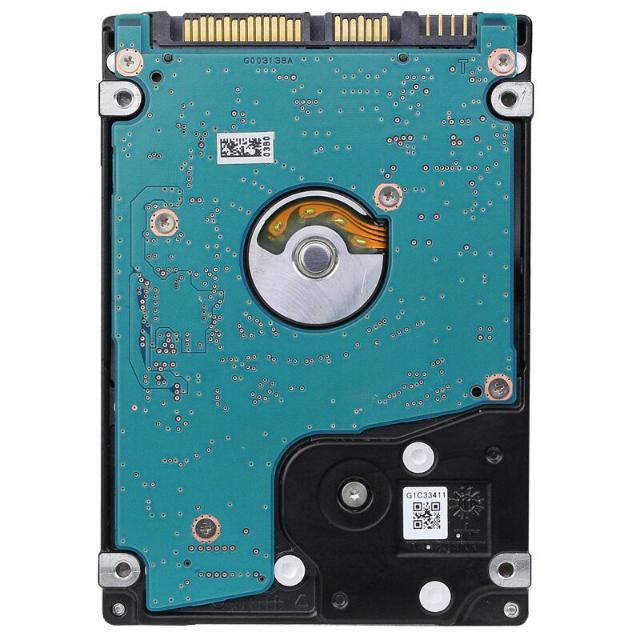HDD: (94, 10, 537, 631)
